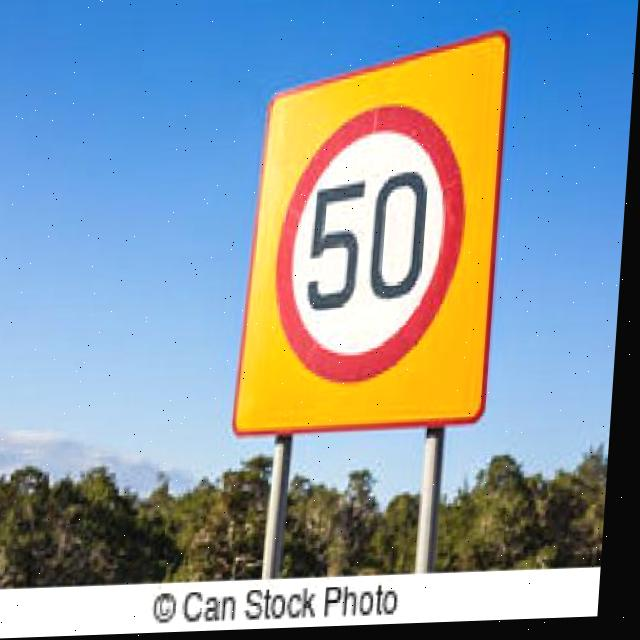Speed limit 50: (273, 104, 476, 388)
